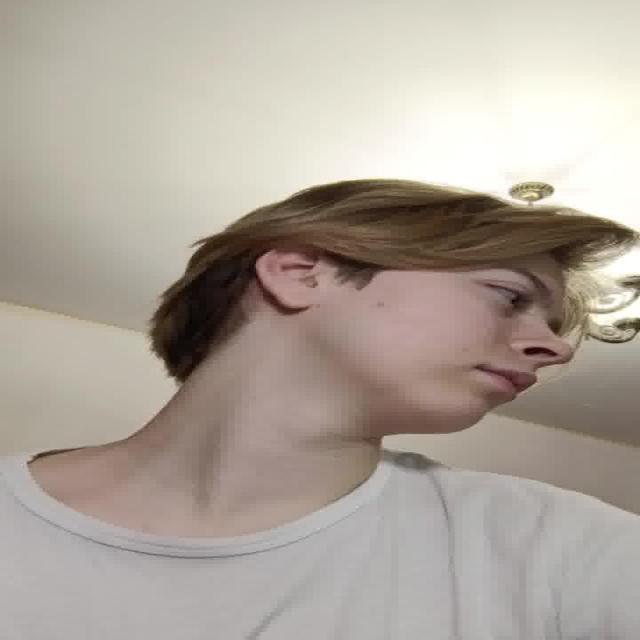earlobe: (255, 246, 320, 312)
